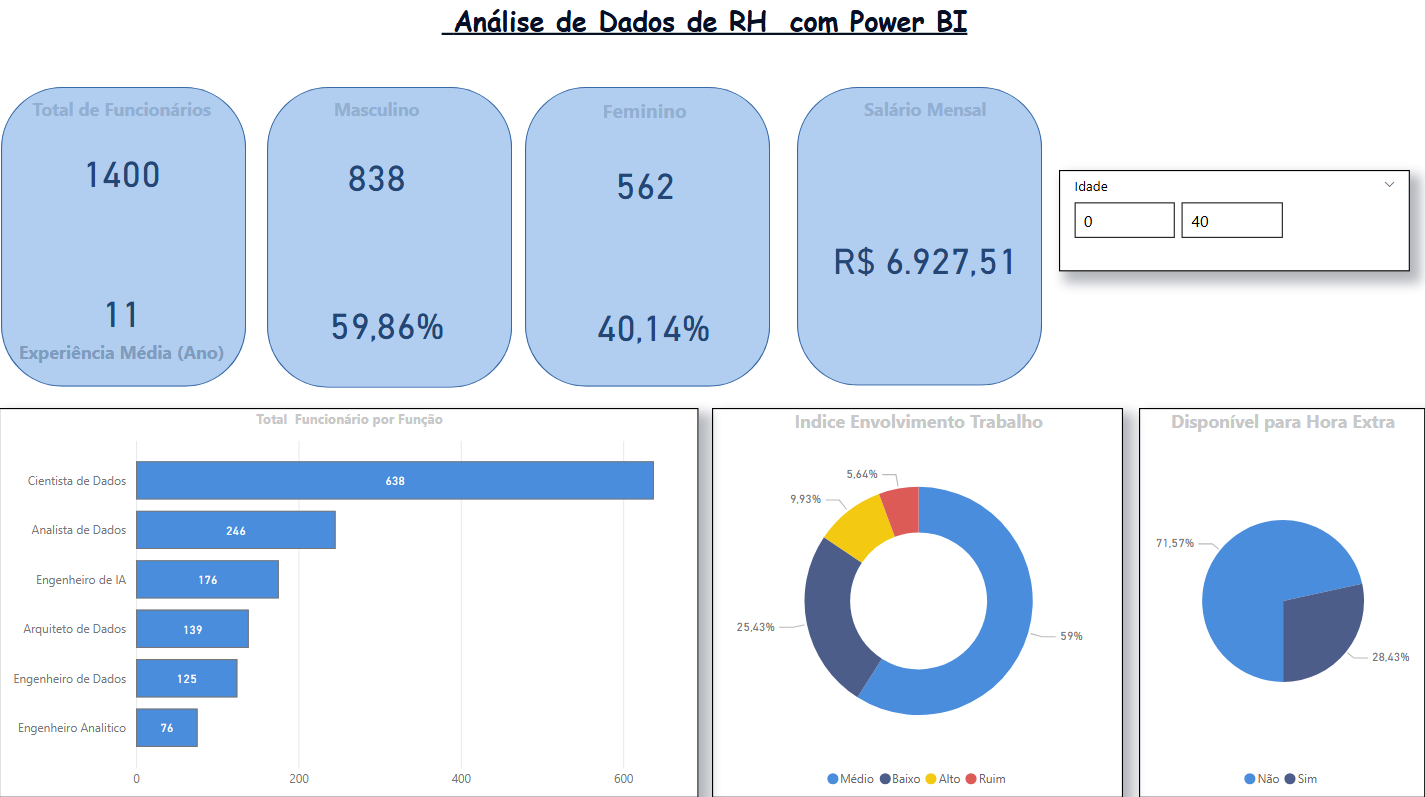

The page's visual inventory and layout, read from the dashboard file:
{"tool":"powerbi","page":{"name":"Dashboard RH","canvas":[1280,720],"ordinal":0},"visuals":[{"type":"card","title":"Total de Funcionários","fields":{"Values":["CountNonNull(DatasetRH - Copia.Id Funcionário)"]},"box":[0,90.3,220.1,118.2],"z":0},{"type":"textbox","box":[0,0,1266.7,81.7],"z":1000},{"type":"slicer","fields":{"Values":["DatasetRH - Copia.Anos Experiência"]},"box":[951.6,156.2,315.1,90.7],"z":2000},{"type":"card","fields":{"Values":["Avg(DatasetRH - Copia.Anos Experiência)"]},"box":[0,228,220,131.1],"z":3000},{"type":"card","title":"Salário Mensal","fields":{"Values":["Avg(DatasetRH - Copia.Salario_Mensal)"]},"box":[712.1,90.3,239.3,268.1],"z":4000},{"type":"clusteredBarChart","title":"Total  Funcionário por Função","fields":{"Category":["DatasetRH - Copia.Funcao"],"Y":["CountNonNull(DatasetRH - Copia.Id_Funcionario)"]},"box":[0,369.9,627.5,350.1],"z":5000},{"type":"pieChart","title":"Disponível para Hora Extra","fields":{"Category":["DatasetRH - Copia.Disponivel_Hora_Extra"],"Y":["CountNonNull(DatasetRH - Copia.Disponivel_Hora_Extra)"]},"box":[1023.4,369.9,256.8,350.1],"z":6000},{"type":"donutChart","title":"Indice Envolvimento Trabalho","fields":{"Y":["Medidas.TotalFunc"],"Category":["DatasetRH - Copia.Envolvimento_Trabalho"]},"box":[640.1,369.9,369,350.1],"z":7000},{"type":"card","title":"Feminino","fields":{"Values":["Medidas.TotalFeminino"]},"box":[469.9,90.3,220.1,132.6],"z":8000},{"type":"card","title":"Masculino","fields":{"Values":["DatasetRH - Copia.TotalMasculino"]},"box":[228.7,90.3,220.1,119.2],"z":9000},{"type":"card","fields":{"Values":["Medidas.% Masculino"]},"box":[238.3,229.7,220.1,128.8],"z":10000},{"type":"card","fields":{"Values":["Medidas.% Feminino"]},"box":[477.6,231.6,220.1,128.8],"z":11000},{"type":"shape","box":[2.1,81.4,220.1,269.1],"z":12000},{"type":"shape","box":[240.4,81.4,220.1,270],"z":13000},{"type":"shape","box":[472,81.4,220.1,269.1],"z":14000},{"type":"shape","box":[716.1,81.4,220.1,268.1],"z":14001}]}

Visuals, with their boxes in screenshot pixels (x1, y1, x2, y2), scaled from the page's 1280x720 canvas onto the 1425x797 screenshot:
"Total de Funcionários" card: Rect(0, 100, 245, 231)
textbox: Rect(0, 0, 1410, 90)
slicer - DatasetRH - Copia.Anos Experiência: Rect(1059, 173, 1410, 273)
card - Avg(DatasetRH - Copia.Anos Experiência): Rect(0, 252, 245, 398)
"Salário Mensal" card: Rect(793, 100, 1059, 397)
"Total  Funcionário por Função" clusteredBarChart: Rect(0, 409, 699, 796)
"Disponível para Hora Extra" pieChart: Rect(1139, 409, 1424, 796)
"Indice Envolvimento Trabalho" donutChart: Rect(713, 409, 1123, 796)
"Feminino" card: Rect(523, 100, 768, 247)
"Masculino" card: Rect(255, 100, 500, 232)
card - Medidas.% Masculino: Rect(265, 254, 510, 397)
card - Medidas.% Feminino: Rect(532, 256, 777, 399)
shape: Rect(2, 90, 247, 388)
shape: Rect(268, 90, 513, 389)
shape: Rect(525, 90, 771, 388)
shape: Rect(797, 90, 1042, 387)
